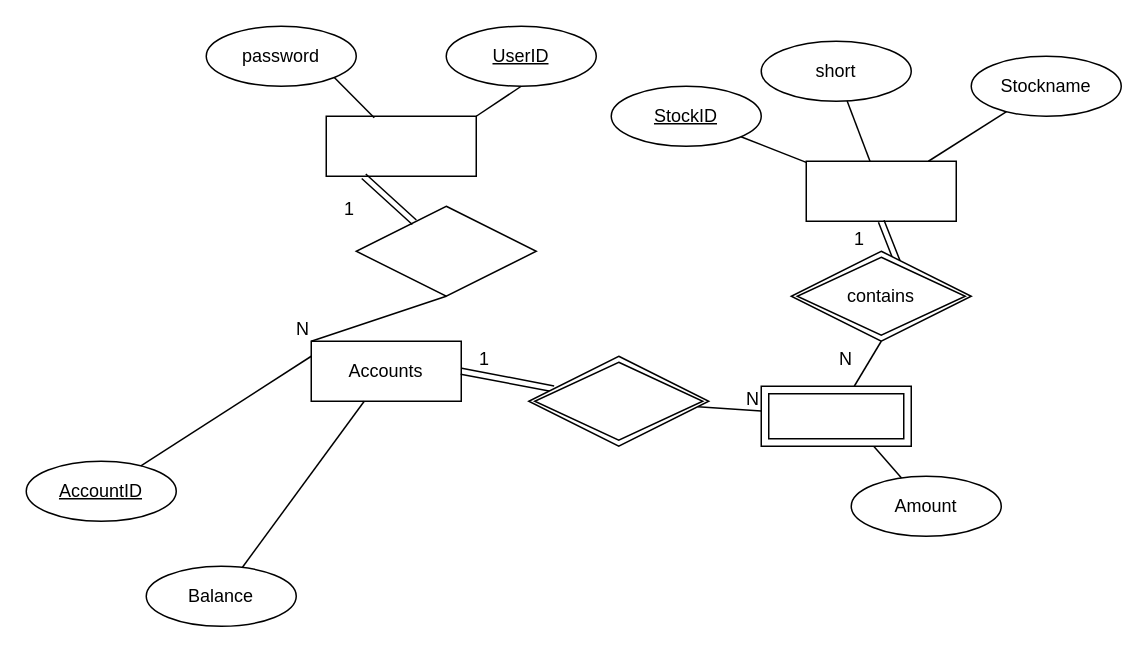
The diagram is 1148 pixels wide and 653 high, and some of its shapes have lost their labels. Here are the shapes that lost their labels. From the top down, the centre of each, then its label:
(x=400, y=145): User
(x=880, y=190): AllStocks
(x=445, y=250): has
(x=618, y=400): have
(x=835, y=415): Stock
